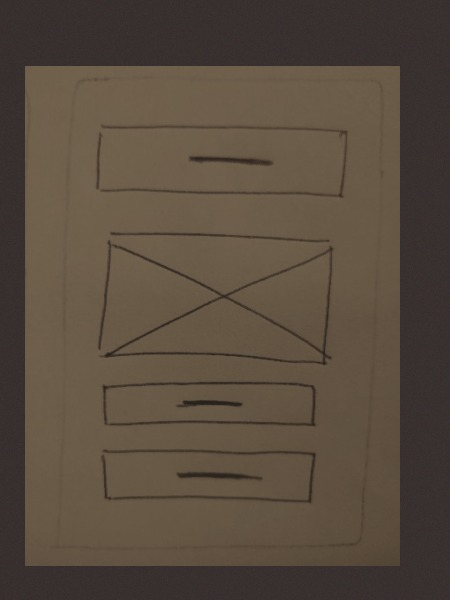button: (91, 115, 350, 204), (95, 443, 321, 507), (99, 376, 323, 434)
image: (93, 224, 336, 371)
